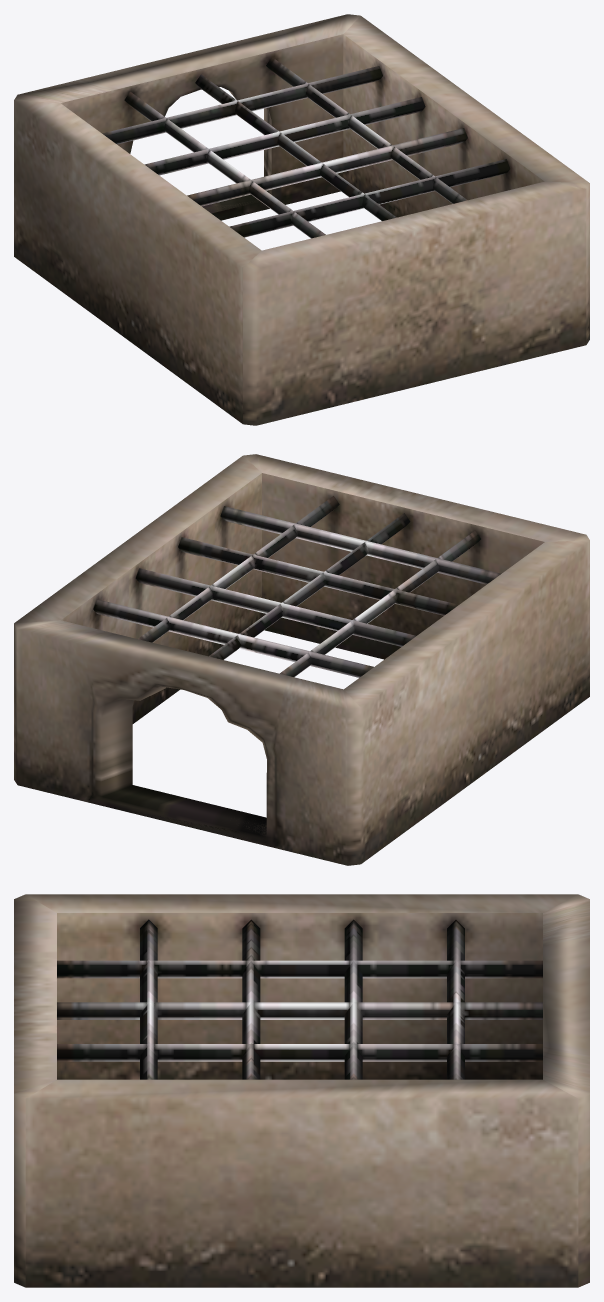
Rendered from stbuho48.dae.
3 views of the same model, one above another, from view 1: azimuth 30°, elevation 25°; view 2: azimuth 150°, elevation 25°; view 3: azimuth 270°, elevation 25° (orthographic). The views are drawn at different scales.
Parts seen in each view (by area): view 1: empty; view 2: empty, base1; view 3: empty.
Boxes of the visible parts, left/top/right/bottom form: empty: left=14, top=14, right=589, bottom=425; empty: left=14, top=454, right=589, bottom=865; base1: left=96, top=804, right=269, bottom=846; empty: left=14, top=894, right=589, bottom=1287.
Bounding box in the file's own units: 5.03 × 5.99 × 2.17.
1 material, 1 textured.
